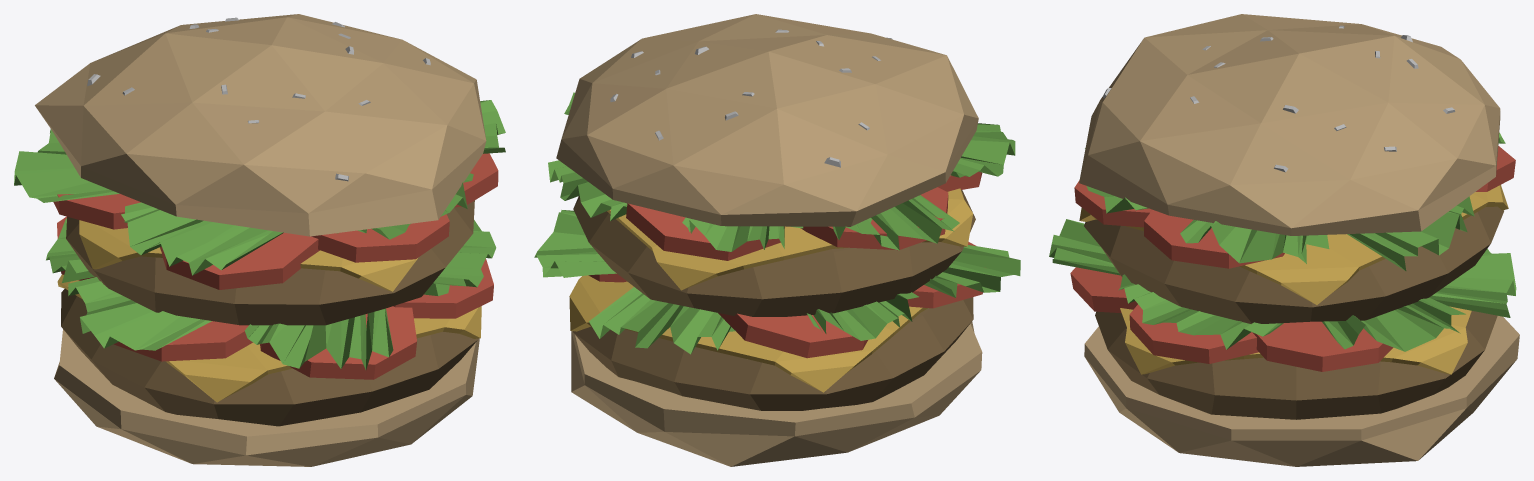
The model's file is BurgerLarge.glb.
3 renders of one model, left to right at view 1: azimuth 30°, elevation 25°; view 2: azimuth 150°, elevation 25°; view 3: azimuth 270°, elevation 25°, orthographic. The views are drawn at different scales.
Visible parts, largest first — view 1: BurgerLarge; view 2: BurgerLarge; view 3: BurgerLarge.
Boxes of the visible parts, box(x1,y1,x2,y2) form: BurgerLarge: box(14, 14, 505, 466); BurgerLarge: box(534, 14, 1020, 466); BurgerLarge: box(1049, 14, 1519, 466).
Size of the model in its own units: 1.72 by 1.45 by 1.67.
